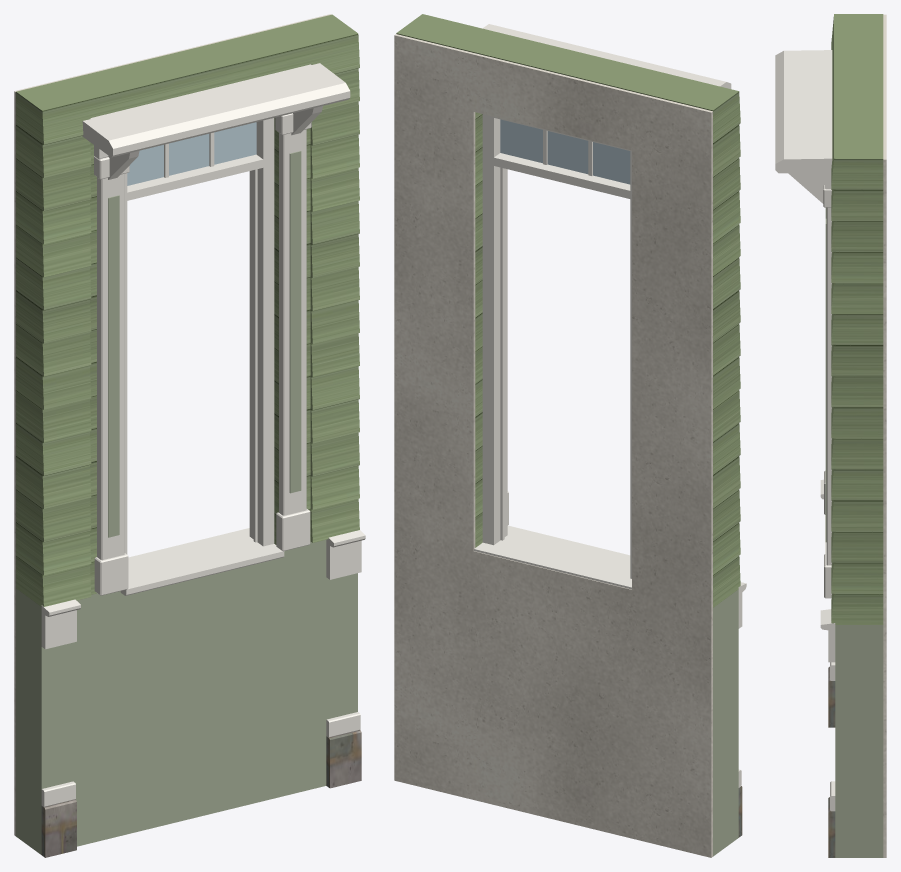
Rendered from f_g_door_b.glb.
3 views of the same model, side by side, from view 1: azimuth 30°, elevation 25°; view 2: azimuth 150°, elevation 25°; view 3: azimuth 270°, elevation 25° (orthographic). The views are drawn at different scales.
Parts seen in each view (by area): view 1: f_g_door_b_acc_b, f_g_door_b_siding_b, f_g_door_b_trim, f_g_door_b_frame, f_g_door_b_glass, f_g_door_b_plinth, f_g_door_b_plaster; view 2: f_g_door_b_plaster, f_g_door_b_siding_b, f_g_door_b_frame, f_g_door_b_trim, f_g_door_b_acc_b, f_g_door_b_glass; view 3: f_g_door_b_siding_b, f_g_door_b_acc_b, f_g_door_b_trim, f_g_door_b_plaster, f_g_door_b_plinth.
Boxes of the visible parts, x1,y1,x2,y2 form: f_g_door_b_acc_b: (16,151,357,854); f_g_door_b_siding_b: (16,14,359,606); f_g_door_b_trim: (41,63,365,806); f_g_door_b_frame: (124,118,274,554); f_g_door_b_glass: (127,122,256,185); f_g_door_b_plinth: (41,730,361,857); f_g_door_b_plaster: (14,14,330,836); f_g_door_b_plaster: (394,34,712,857); f_g_door_b_siding_b: (396,14,740,607); f_g_door_b_frame: (482,114,631,578); f_g_door_b_trim: (474,24,746,787); f_g_door_b_acc_b: (713,589,738,856); f_g_door_b_glass: (500,119,630,184); f_g_door_b_siding_b: (831,14,883,624); f_g_door_b_acc_b: (825,207,883,857); f_g_door_b_trim: (775,50,835,811); f_g_door_b_plaster: (883,14,886,857); f_g_door_b_plinth: (828,666,835,857).
Bounding box in the file's own units: 2 × 4.5 × 0.65.
7 materials, 3 textured.
